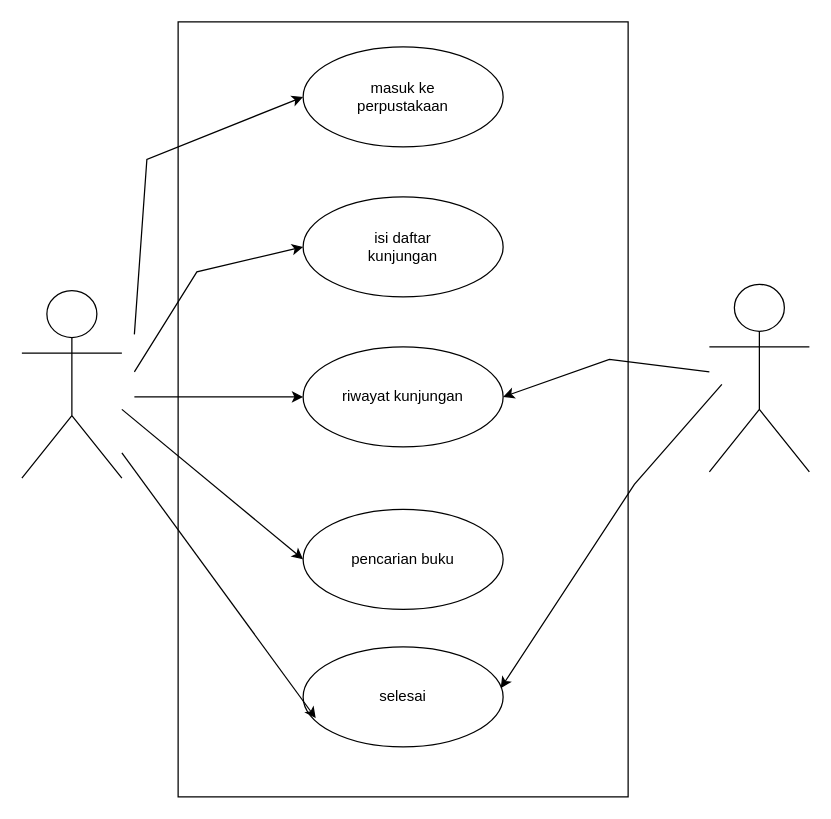
Image size: 831x819. Some labels were removed from this diagram. Here are the shapes that lost their labels. From the top down, the box of each, then its label:
(21, 289, 122, 478): people
(708, 283, 809, 472): pustakawan
